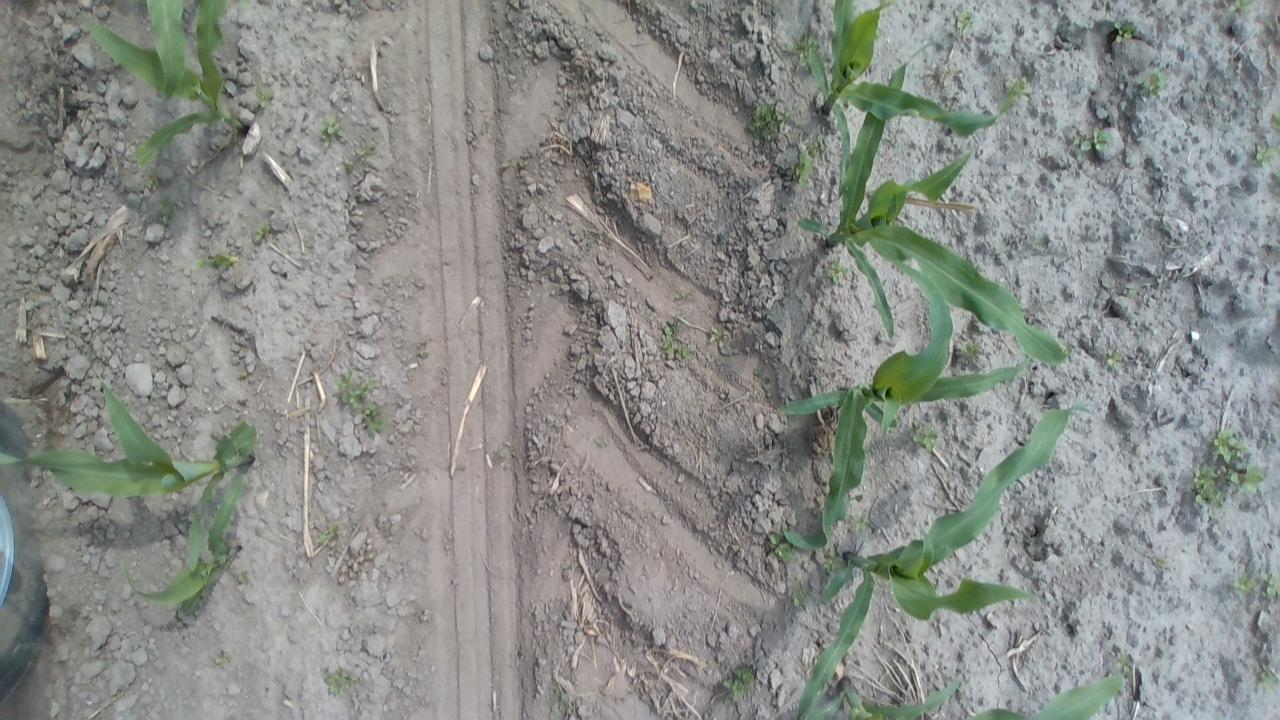Maize: (790, 399, 1094, 720), (794, 62, 1072, 371), (782, 252, 1040, 551), (0, 376, 266, 576), (81, 0, 248, 170), (121, 469, 254, 615), (800, 666, 1136, 720), (804, 0, 892, 199)
Weeds: (1186, 423, 1268, 512), (340, 367, 386, 434), (743, 103, 792, 140), (1228, 570, 1280, 604), (720, 662, 756, 702), (762, 524, 796, 564), (661, 322, 691, 367), (1074, 122, 1110, 158), (324, 666, 362, 700), (793, 30, 824, 70), (788, 150, 819, 188), (544, 684, 578, 718), (478, 100, 503, 142), (317, 108, 344, 146), (1136, 67, 1168, 98), (912, 419, 939, 455), (198, 248, 242, 270), (998, 74, 1032, 102), (1101, 347, 1133, 374), (580, 228, 614, 252), (953, 338, 984, 364), (319, 521, 345, 552), (826, 256, 851, 286), (787, 586, 813, 614), (706, 324, 734, 350), (156, 195, 178, 228), (252, 81, 276, 110), (1256, 664, 1280, 692), (1253, 140, 1278, 164), (954, 7, 977, 32), (560, 552, 582, 578), (1114, 651, 1134, 679), (1111, 18, 1134, 42), (1116, 284, 1140, 307), (496, 154, 530, 170), (824, 550, 844, 574), (250, 220, 270, 244), (411, 340, 434, 360), (354, 143, 379, 161), (143, 169, 162, 192), (233, 566, 251, 590), (850, 514, 870, 534), (1152, 552, 1172, 571), (213, 652, 232, 671), (1266, 108, 1280, 133), (672, 286, 692, 303)
